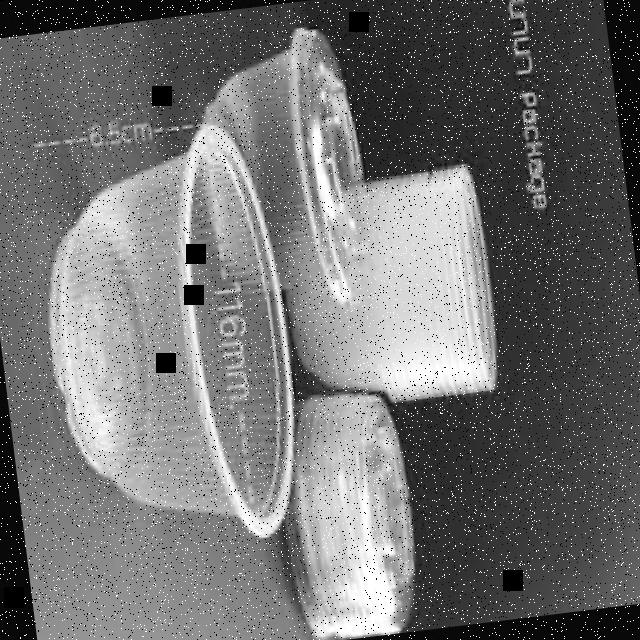plastic_box: (24, 121, 313, 562)
